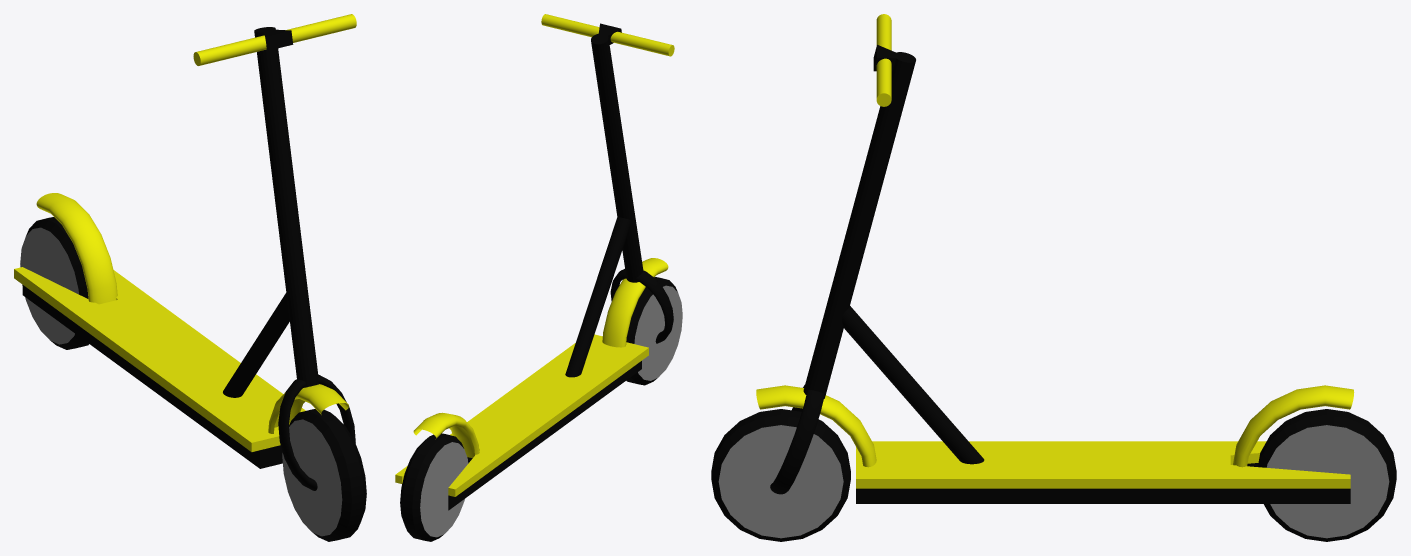
Rendered from Scooter.fbx.
3 renders of one model, left to right at view 1: azimuth 30°, elevation 25°; view 2: azimuth 150°, elevation 25°; view 3: azimuth 270°, elevation 25°, orthographic. The views are drawn at different scales.
Parts seen in each view (by area): view 1: pCube1, pCylinder3, pCylinder1, pCylinder6, pTorus2, pCylinder5, pCylinder4, pTorus3, pTorus1; view 2: pCube1, pCylinder6, pCylinder3, pCylinder1, pCylinder4, pTorus1, pCylinder5, pTorus2, pTorus3; view 3: pCube1, pCylinder1, pCylinder6, pCylinder3, pCylinder4, pTorus2, pTorus1, pTorus3, pCylinder5.
Boxes of the visible parts, x1,y1,x2,y2 form: pCube1: [14, 267, 305, 468]; pCylinder3: [254, 27, 319, 387]; pCylinder1: [282, 409, 366, 541]; pCylinder6: [20, 217, 88, 349]; pTorus2: [36, 193, 117, 304]; pCylinder5: [193, 14, 356, 65]; pCylinder4: [223, 293, 289, 397]; pTorus3: [278, 374, 355, 490]; pTorus1: [268, 384, 349, 433]; pCube1: [395, 334, 648, 510]; pCylinder6: [400, 433, 468, 541]; pCylinder3: [591, 23, 643, 282]; pCylinder1: [626, 277, 682, 385]; pCylinder4: [565, 216, 630, 377]; pTorus1: [602, 258, 668, 347]; pCylinder5: [541, 14, 674, 56]; pTorus2: [413, 412, 479, 458]; pTorus3: [610, 269, 673, 343]; pCube1: [856, 441, 1350, 503]; pCylinder1: [711, 409, 850, 541]; pCylinder6: [1258, 409, 1396, 541]; pCylinder3: [803, 44, 915, 398]; pCylinder4: [842, 306, 984, 464]; pTorus2: [1233, 385, 1354, 467]; pTorus1: [756, 385, 876, 467]; pTorus3: [770, 385, 824, 494]; pCylinder5: [876, 14, 891, 106].
Bounding box in the file's own units: 16.46 × 47.23 × 60.18.
